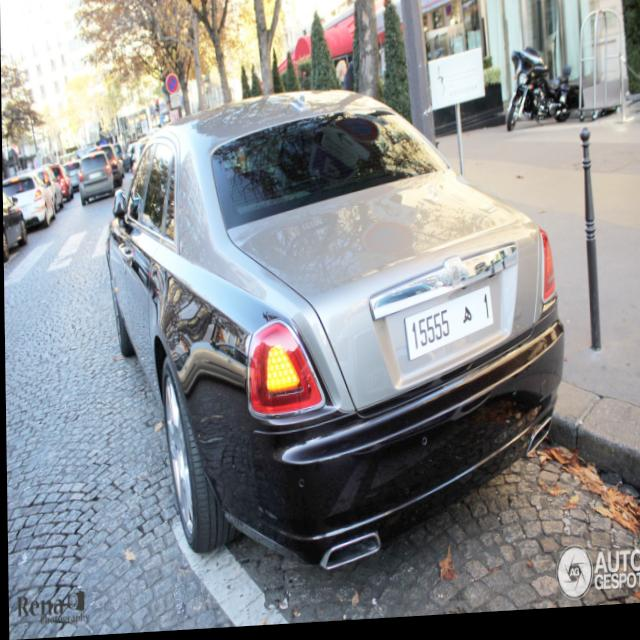License-Plate: (405, 291, 493, 365)
